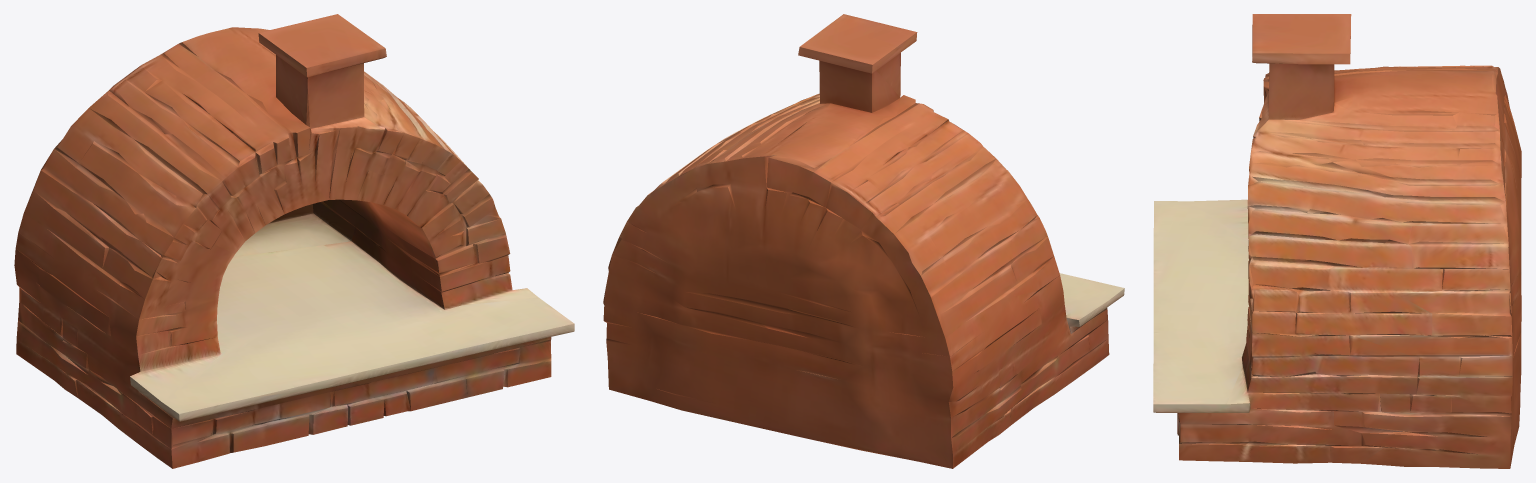
Rendered from pizzaOven.glb.
3 renders of one model, left to right at view 1: azimuth 30°, elevation 25°; view 2: azimuth 150°, elevation 25°; view 3: azimuth 270°, elevation 25°, orthographic. The views are drawn at different scales.
Parts seen in each view (by area): view 1: model; view 2: model; view 3: model.
Part boxes in pixels (x1,y1,x2,y2): model: (14, 14, 574, 468); model: (603, 14, 1124, 468); model: (1153, 14, 1521, 468).
Bounding box in the file's own units: 1.89 × 1.57 × 1.49.
1 material, 1 textured.
